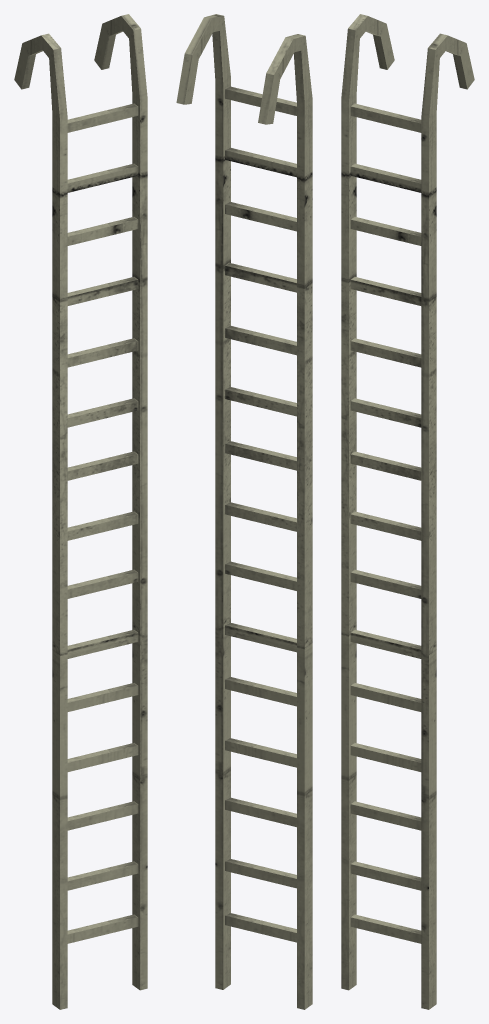
File: SM_NeoLD_01_Ladder_00.fbx
3 renders of one model, left to right at view 1: azimuth 30°, elevation 25°; view 2: azimuth 150°, elevation 25°; view 3: azimuth 330°, elevation 25°, orthographic.
Parts seen in each view (by area): view 1: SM_NeoLD_01_Ladder_00; view 2: SM_NeoLD_01_Ladder_00; view 3: SM_NeoLD_01_Ladder_00.
Part boxes in pixels (x1,y1,x2,y2): SM_NeoLD_01_Ladder_00: (14,14,147,1009); SM_NeoLD_01_Ladder_00: (176,14,312,1009); SM_NeoLD_01_Ladder_00: (341,14,474,1009).
Size of the model in its own units: 166 by 1739 by 150.
